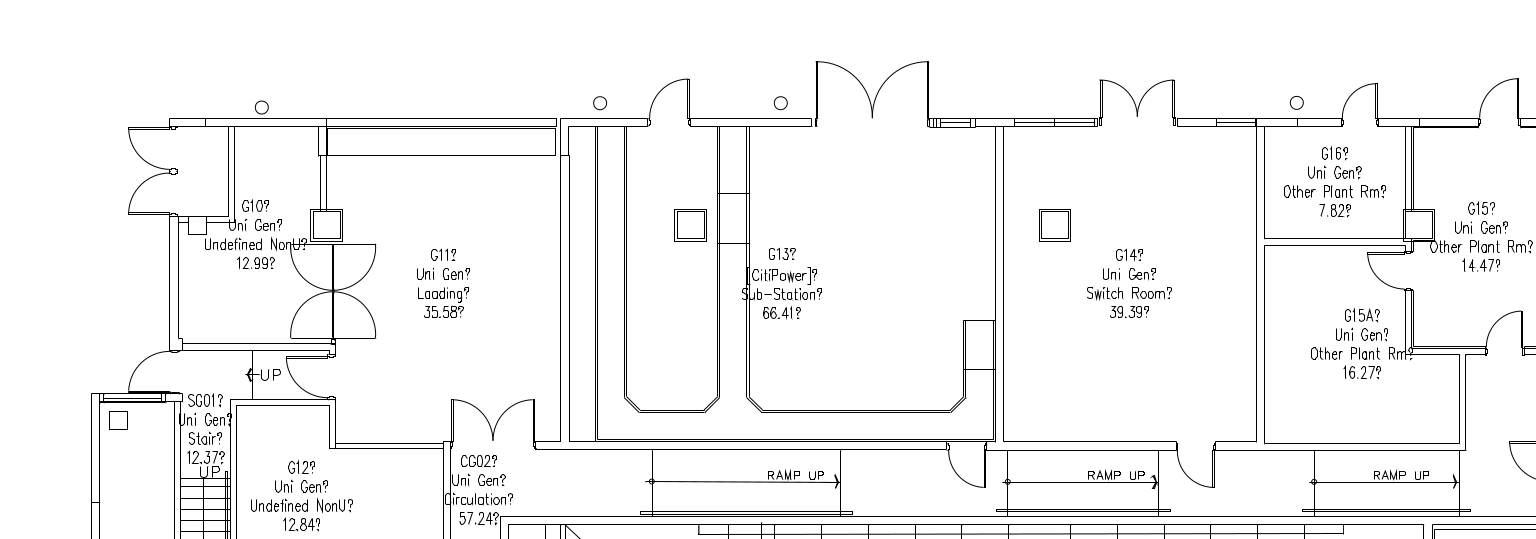door: (809, 56, 933, 122), (328, 241, 388, 342), (280, 242, 340, 343), (122, 123, 180, 218), (445, 391, 543, 444), (1094, 67, 1182, 120), (640, 72, 694, 130), (1330, 66, 1383, 121), (1475, 68, 1528, 123), (1476, 295, 1529, 350), (122, 338, 170, 394), (279, 351, 326, 398), (1363, 246, 1408, 292), (1175, 448, 1220, 494), (946, 448, 991, 494), (1491, 436, 1536, 482)
